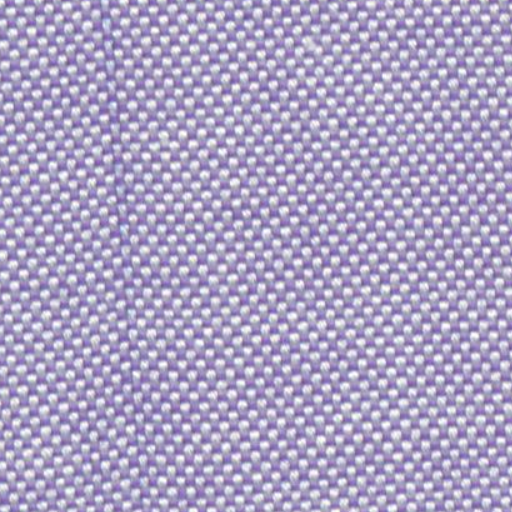TuoSha: (84, 11, 168, 506)
